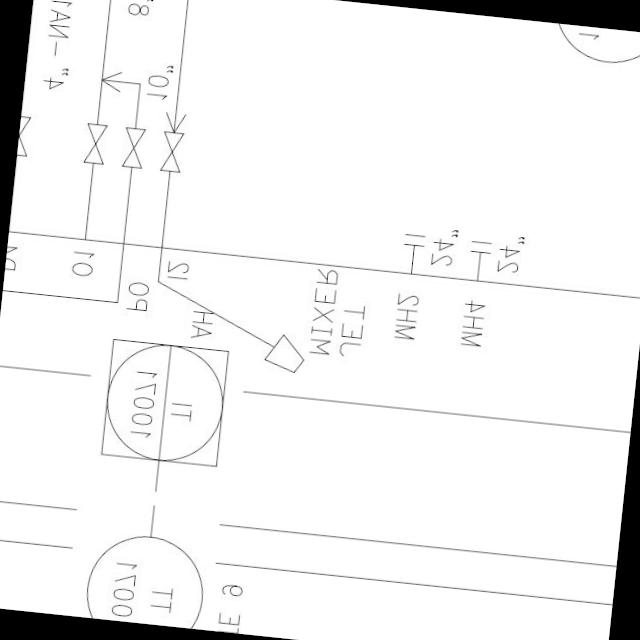GV: (78, 118, 110, 170), (153, 125, 184, 178), (115, 124, 148, 173)
SP: (259, 329, 311, 384)
